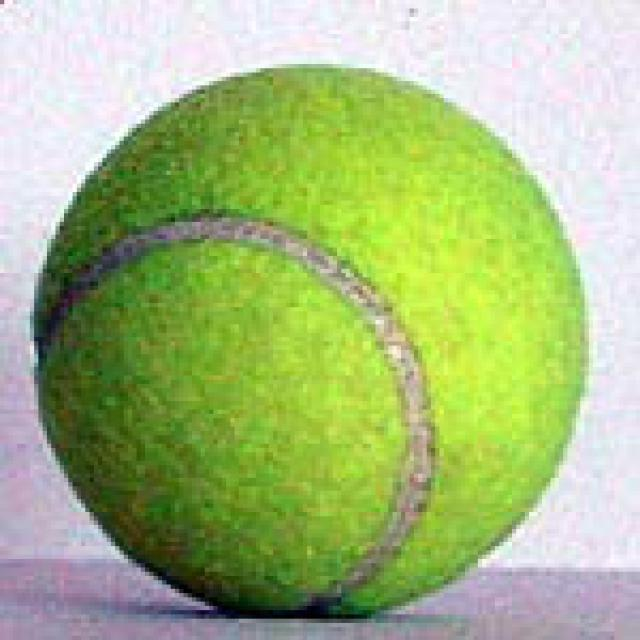Tennis Ball: (30, 64, 589, 623)
